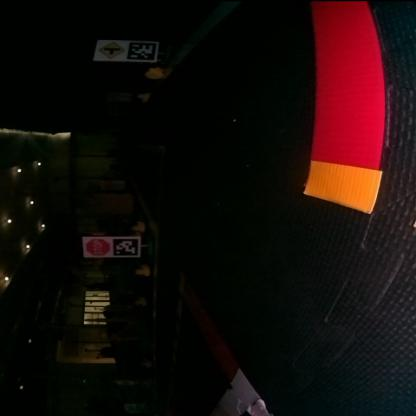Duckie: (144, 67, 160, 78), (134, 266, 148, 275), (134, 298, 146, 306), (132, 222, 142, 230), (136, 94, 146, 100)
Intersection sign: (96, 42, 122, 60)
QR code: (128, 43, 156, 61), (112, 238, 138, 257)
Stop sign: (84, 238, 108, 257)
